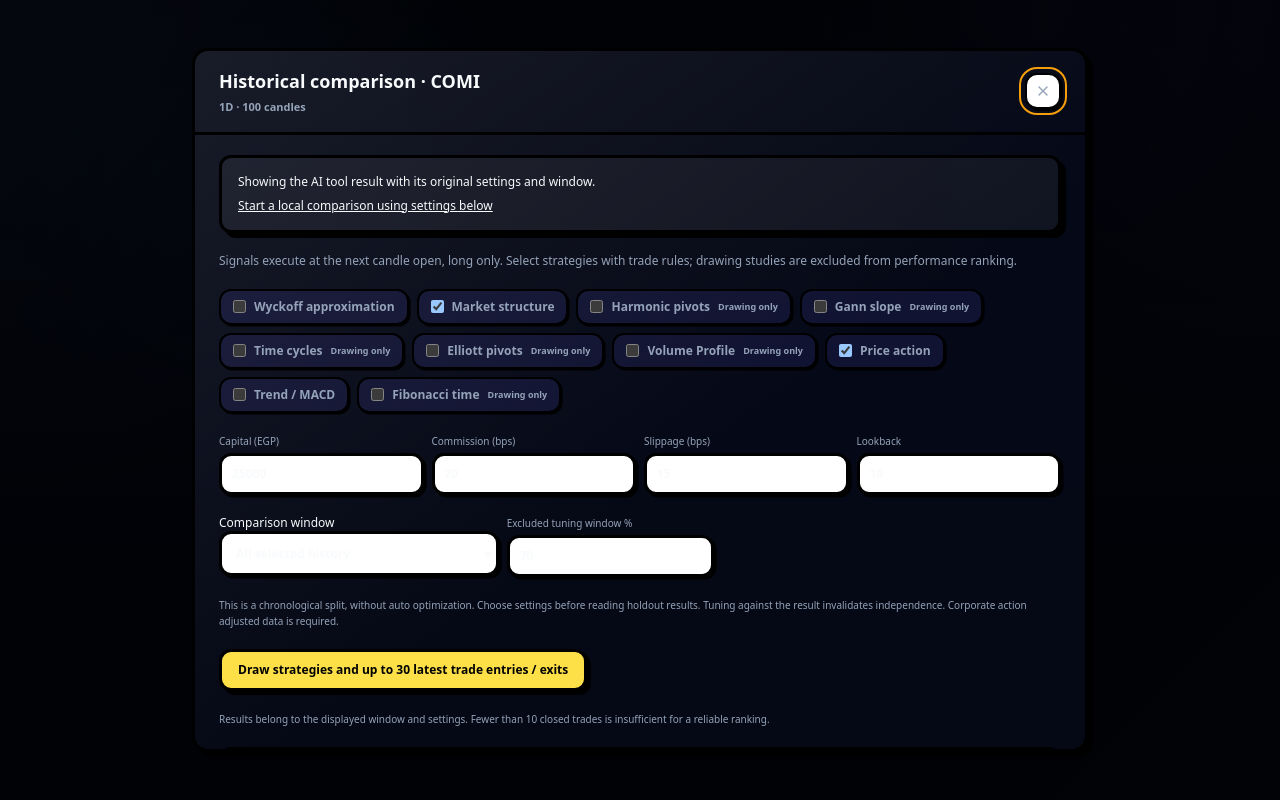
Test: editing Capital (EGP) invalidates AI view and recalculates immediately
Replace the text in the number field labelled "Capital (EGP)" with "50000" at (321, 474), box [219, 452, 424, 494]
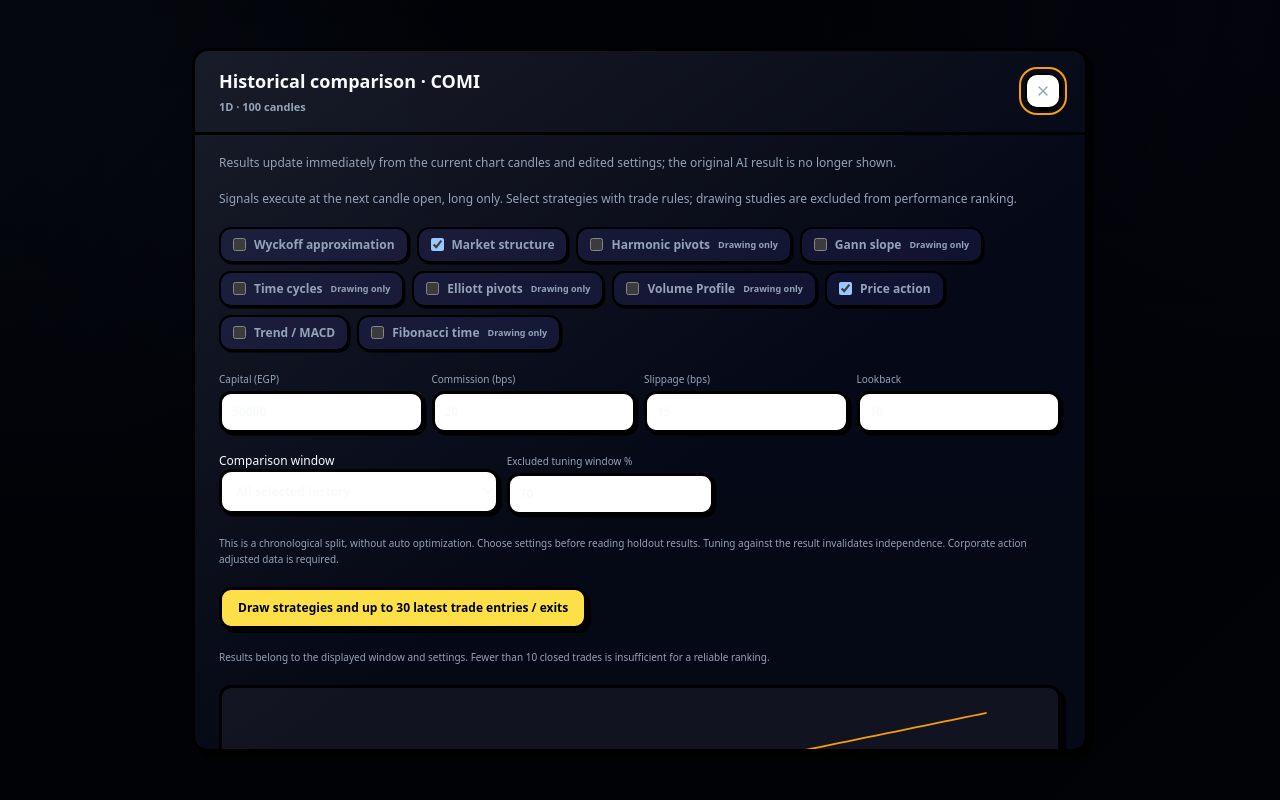
Expected: the message shows "Results update immediately", [219, 154, 896, 170]
